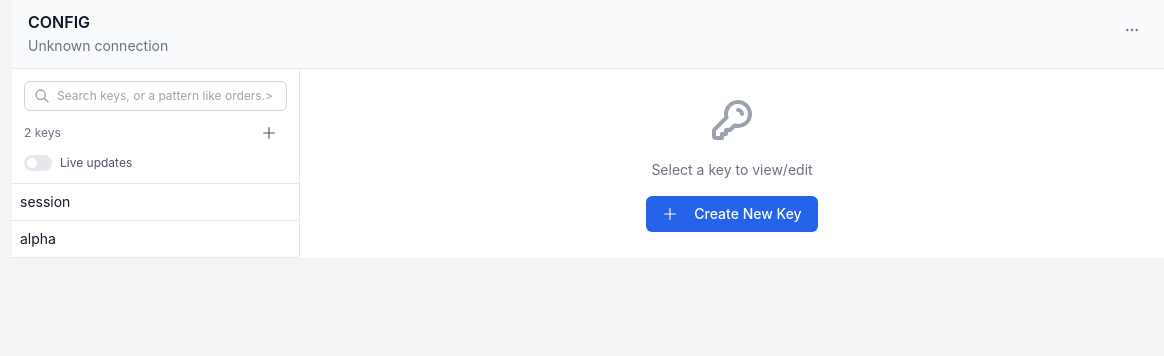
it: KVStorePage › warns that saving a key with a TTL drops the TTL
What coordinates should you click on to do the following:
click the button "alpha"
I would click on:
 (128, 239)
Its box is 12,221 -> 243,257.
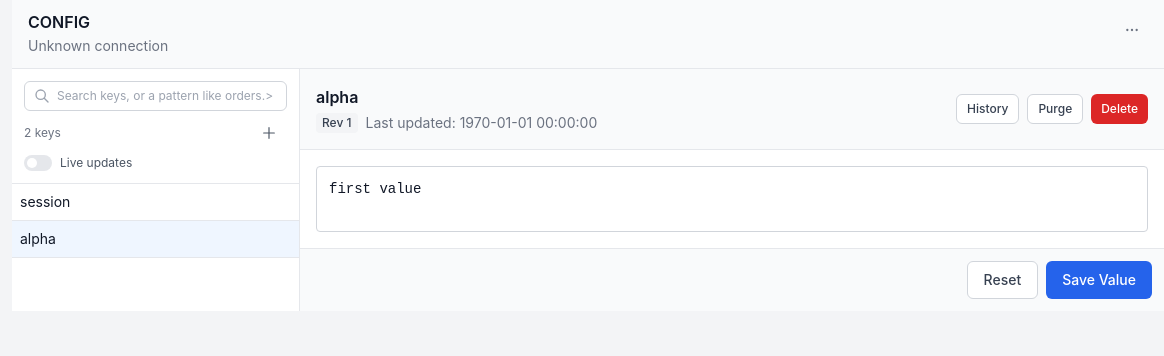
What coordinates should you click on to do the following:
click the button "session"
I would click on:
 (128, 202)
Its box is 12,184 -> 243,220.
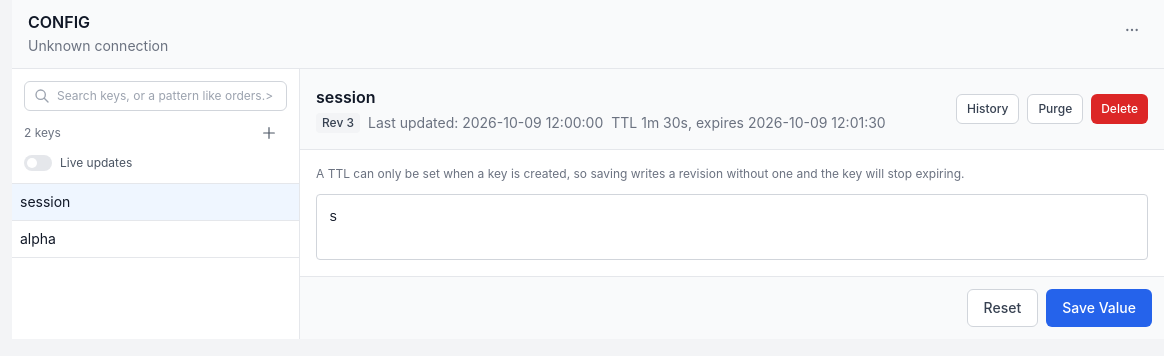
Expected: the text "stop expiring" is shown, 316,166 -> 964,181
